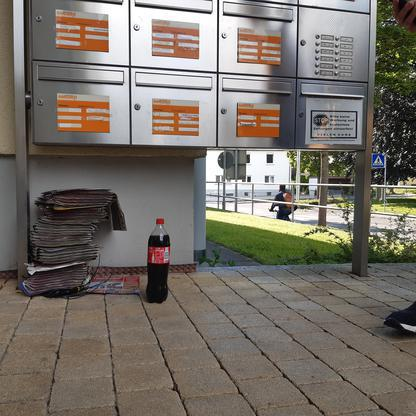coca-cola: (144, 215, 172, 304)
